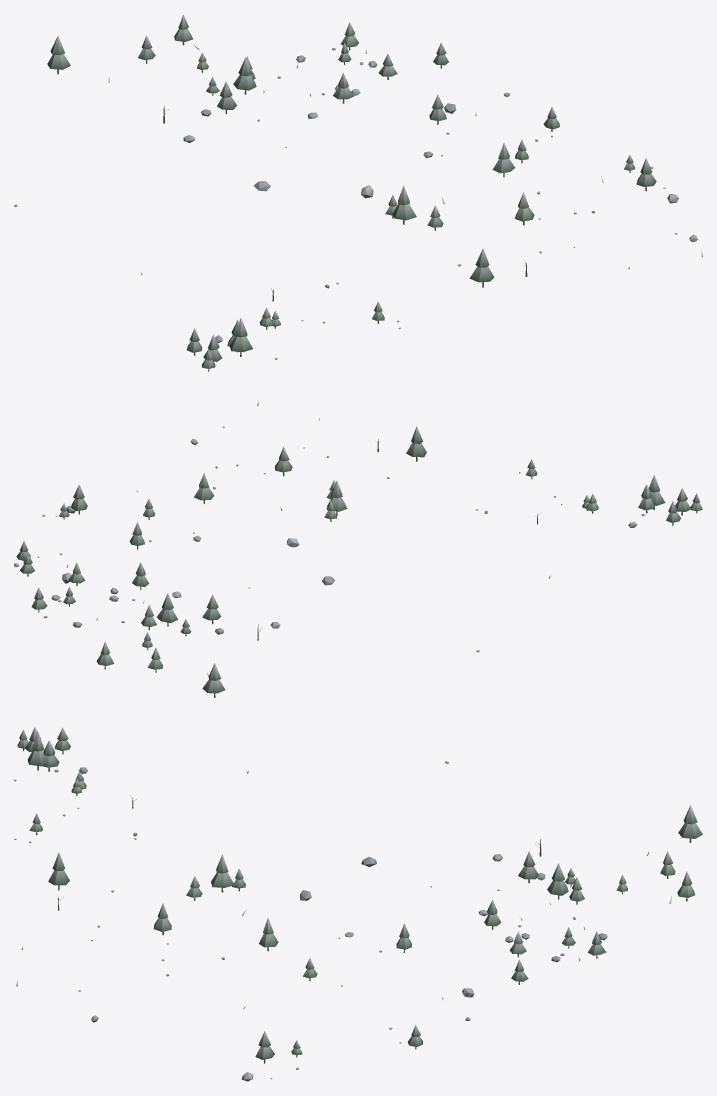
Rendered from frost_land_scatter_c19_12_lod1.glb.
3 renders of one model, top to bottom at view 1: azimuth 30°, elevation 25°; view 2: azimuth 150°, elevation 25°; view 3: azimuth 270°, elevation 25°, orthographic. The views are drawn at different scales.
Parts seen in each view (by area): view 1: frost_land_scatter_c19_12_lod1; view 2: frost_land_scatter_c19_12_lod1; view 3: frost_land_scatter_c19_12_lod1.
Part boxes in pixels (box(x1,y1,x2,y2)): frost_land_scatter_c19_12_lod1: box(14, 14, 702, 371); frost_land_scatter_c19_12_lod1: box(14, 401, 702, 697); frost_land_scatter_c19_12_lod1: box(14, 727, 702, 1081).
Size of the model in its own units: 249 by 38.49 by 258.
